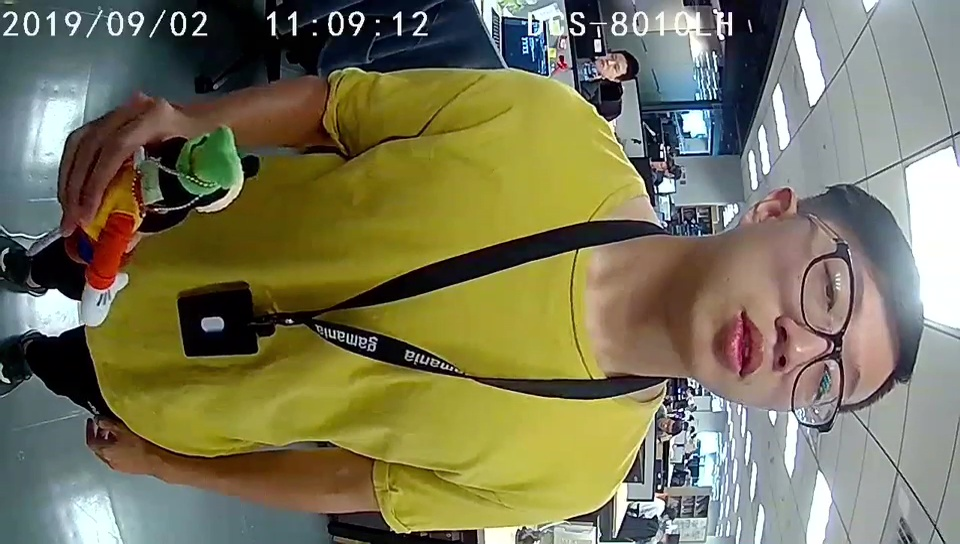goofy: (80, 126, 242, 329)
